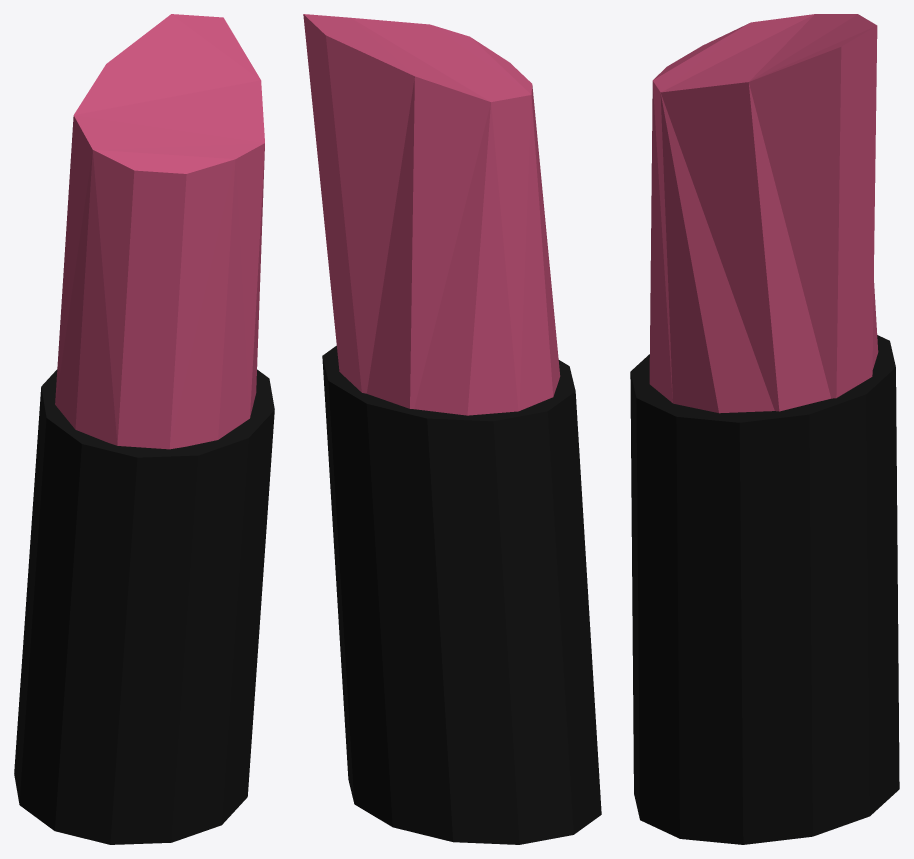
The model's file is lipstick.gltf.
3 renders of one model, left to right at view 1: azimuth 30°, elevation 25°; view 2: azimuth 150°, elevation 25°; view 3: azimuth 270°, elevation 25°, orthographic. The views are drawn at different scales.
Parts seen in each view (by area): view 1: node_MeshObject-255728128-PolyPaper23; view 2: node_MeshObject-255728128-PolyPaper23; view 3: node_MeshObject-255728128-PolyPaper23.
Part boxes in pixels (left/top/right/bottom): node_MeshObject-255728128-PolyPaper23: left=14, top=14, right=274, bottom=844; node_MeshObject-255728128-PolyPaper23: left=303, top=14, right=601, bottom=844; node_MeshObject-255728128-PolyPaper23: left=630, top=14, right=899, bottom=844.
Size of the model in its own units: 0.0776 by 0.236 by 0.0696.
